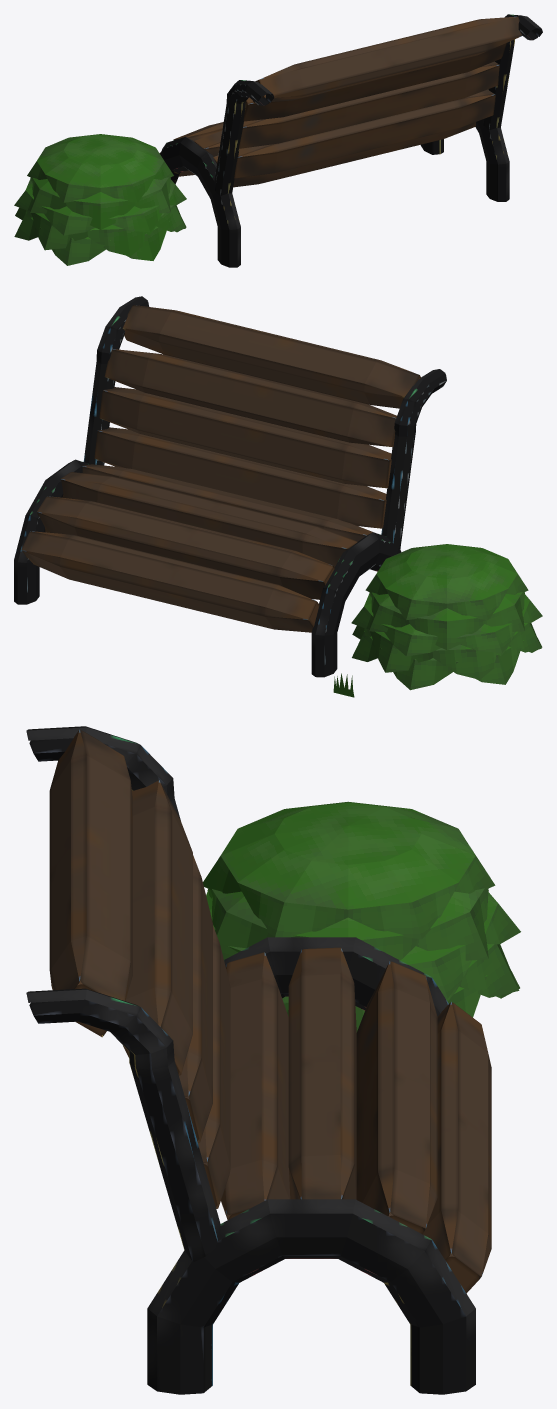
Rendered from Bush.fbx.
3 views of the same model, one above another, from view 1: azimuth 30°, elevation 25°; view 2: azimuth 150°, elevation 25°; view 3: azimuth 270°, elevation 25° (orthographic). The views are drawn at different scales.
Visible parts, largest first — view 1: beveled_cuboid, sphere, torus_1, torus; view 2: beveled_cuboid, sphere, torus_1, torus; view 3: beveled_cuboid, torus, sphere, torus_1.
Part boxes in pixels (x1,y1,x2,y2): beveled_cuboid: [159, 16, 522, 187]; sphere: [14, 134, 186, 265]; torus_1: [160, 80, 274, 267]; torus: [420, 14, 542, 201]; beveled_cuboid: [21, 305, 420, 632]; sphere: [351, 544, 542, 690]; torus_1: [311, 369, 446, 677]; torus: [14, 296, 149, 604]; beveled_cuboid: [49, 729, 491, 1293]; torus: [26, 988, 475, 1394]; sphere: [203, 801, 520, 1032]; torus_1: [26, 726, 448, 1016].
Bounding box in the file's own units: 172 × 77.68 × 86.36.
